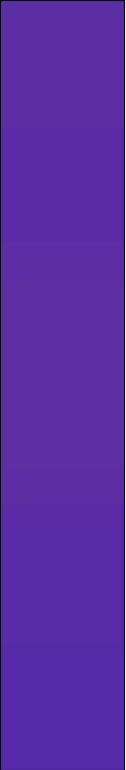safe: (9, 14, 121, 759)
